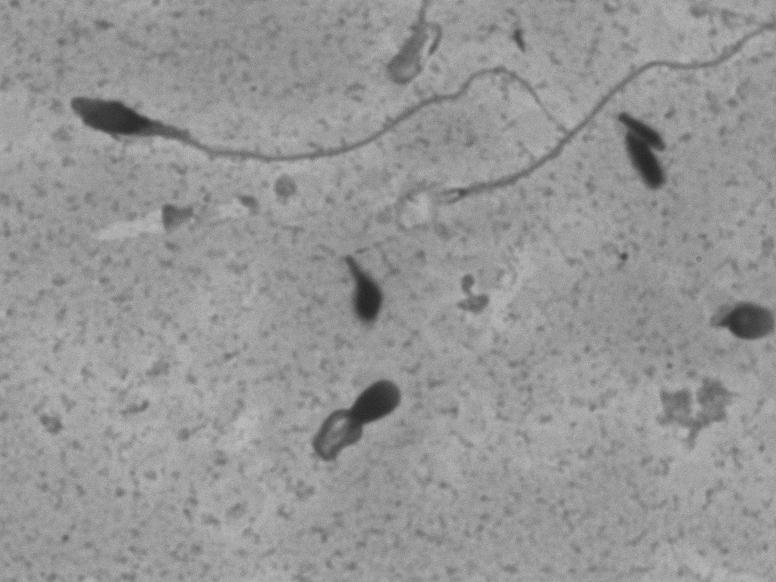Abnormal: (38, 21, 567, 189)
